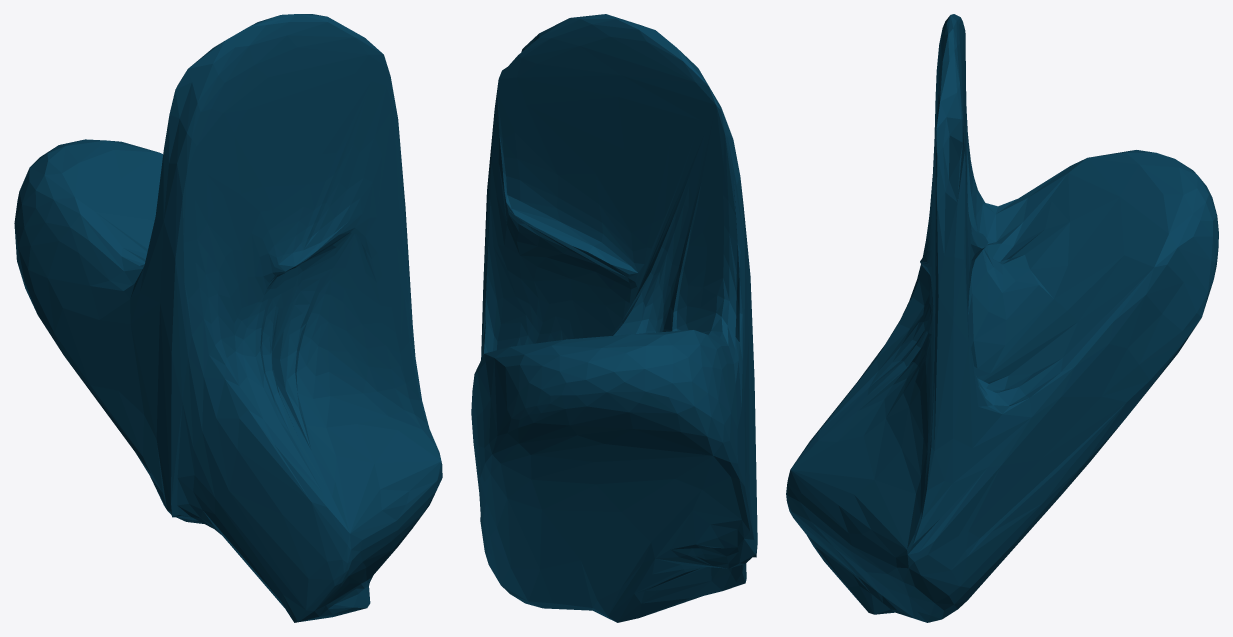
3 renders of one model, left to right at view 1: azimuth 30°, elevation 25°; view 2: azimuth 150°, elevation 25°; view 3: azimuth 270°, elevation 25°, orthographic. The views are drawn at different scales.
Visible parts, largest first — view 1: 722_Cube.2898; view 2: 722_Cube.2898; view 3: 722_Cube.2898.
Part boxes in pixels (x1,y1,x2,y2): 722_Cube.2898: [14, 14, 442, 622]; 722_Cube.2898: [471, 14, 757, 622]; 722_Cube.2898: [786, 14, 1218, 622].
Bounding box in the file's own units: 7.88 × 13.73 × 9.46.
